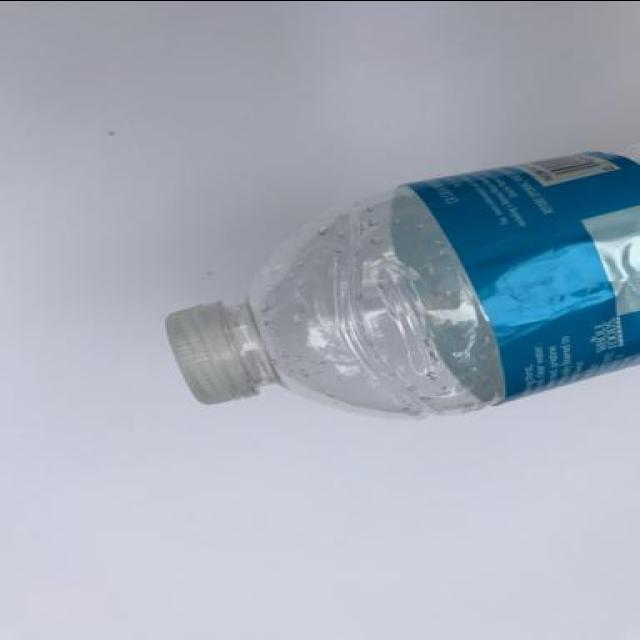litter: (166, 135, 640, 420)
